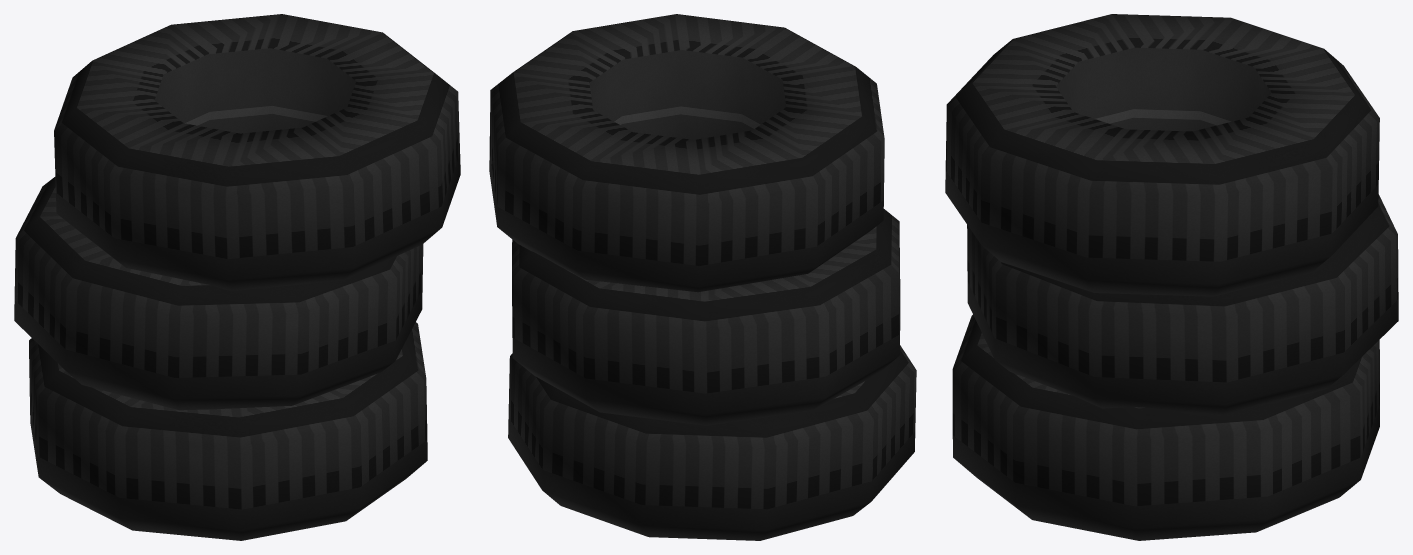
File: Prop_TireStack_In.fbx
3 views of the same model, side by side, from view 1: azimuth 30°, elevation 25°; view 2: azimuth 150°, elevation 25°; view 3: azimuth 270°, elevation 25° (orthographic). The views are drawn at different scales.
Parts seen in each view (by area): view 1: Prop_TireStack_In; view 2: Prop_TireStack_In; view 3: Prop_TireStack_In.
Boxes of the visible parts, <box> form: Prop_TireStack_In: <box>14,14,460,540</box>; Prop_TireStack_In: <box>489,14,916,540</box>; Prop_TireStack_In: <box>945,14,1398,540</box>.
Bounding box in the file's own units: 0.7618 × 0.7251 × 0.7531.
Materials: 1 (1 with a texture image).
